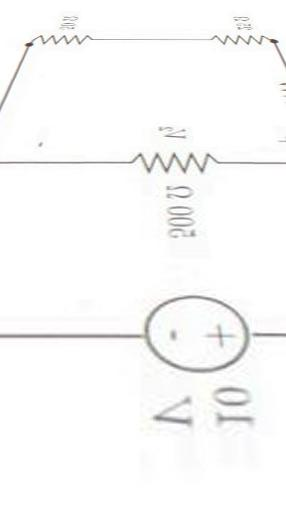resistor: (110, 144, 231, 185), (204, 27, 282, 53), (25, 26, 99, 49)
